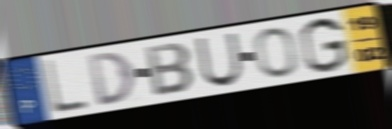B: (144, 41, 198, 98)
D: (85, 49, 138, 109)
G: (298, 16, 351, 75)
L: (41, 57, 91, 117)
O: (252, 25, 301, 79)
U: (193, 31, 244, 89)
